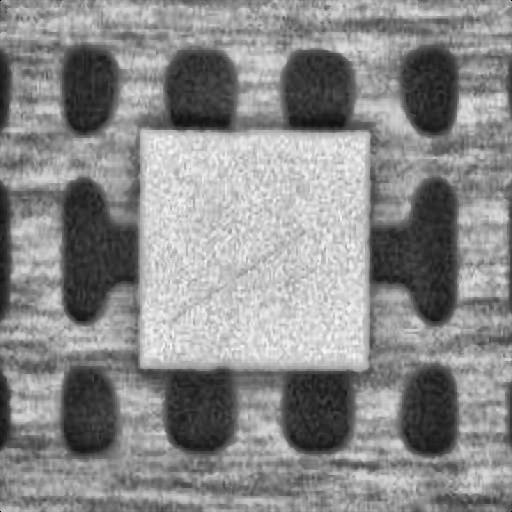DIE_CRACK: (254, 152, 454, 211)
